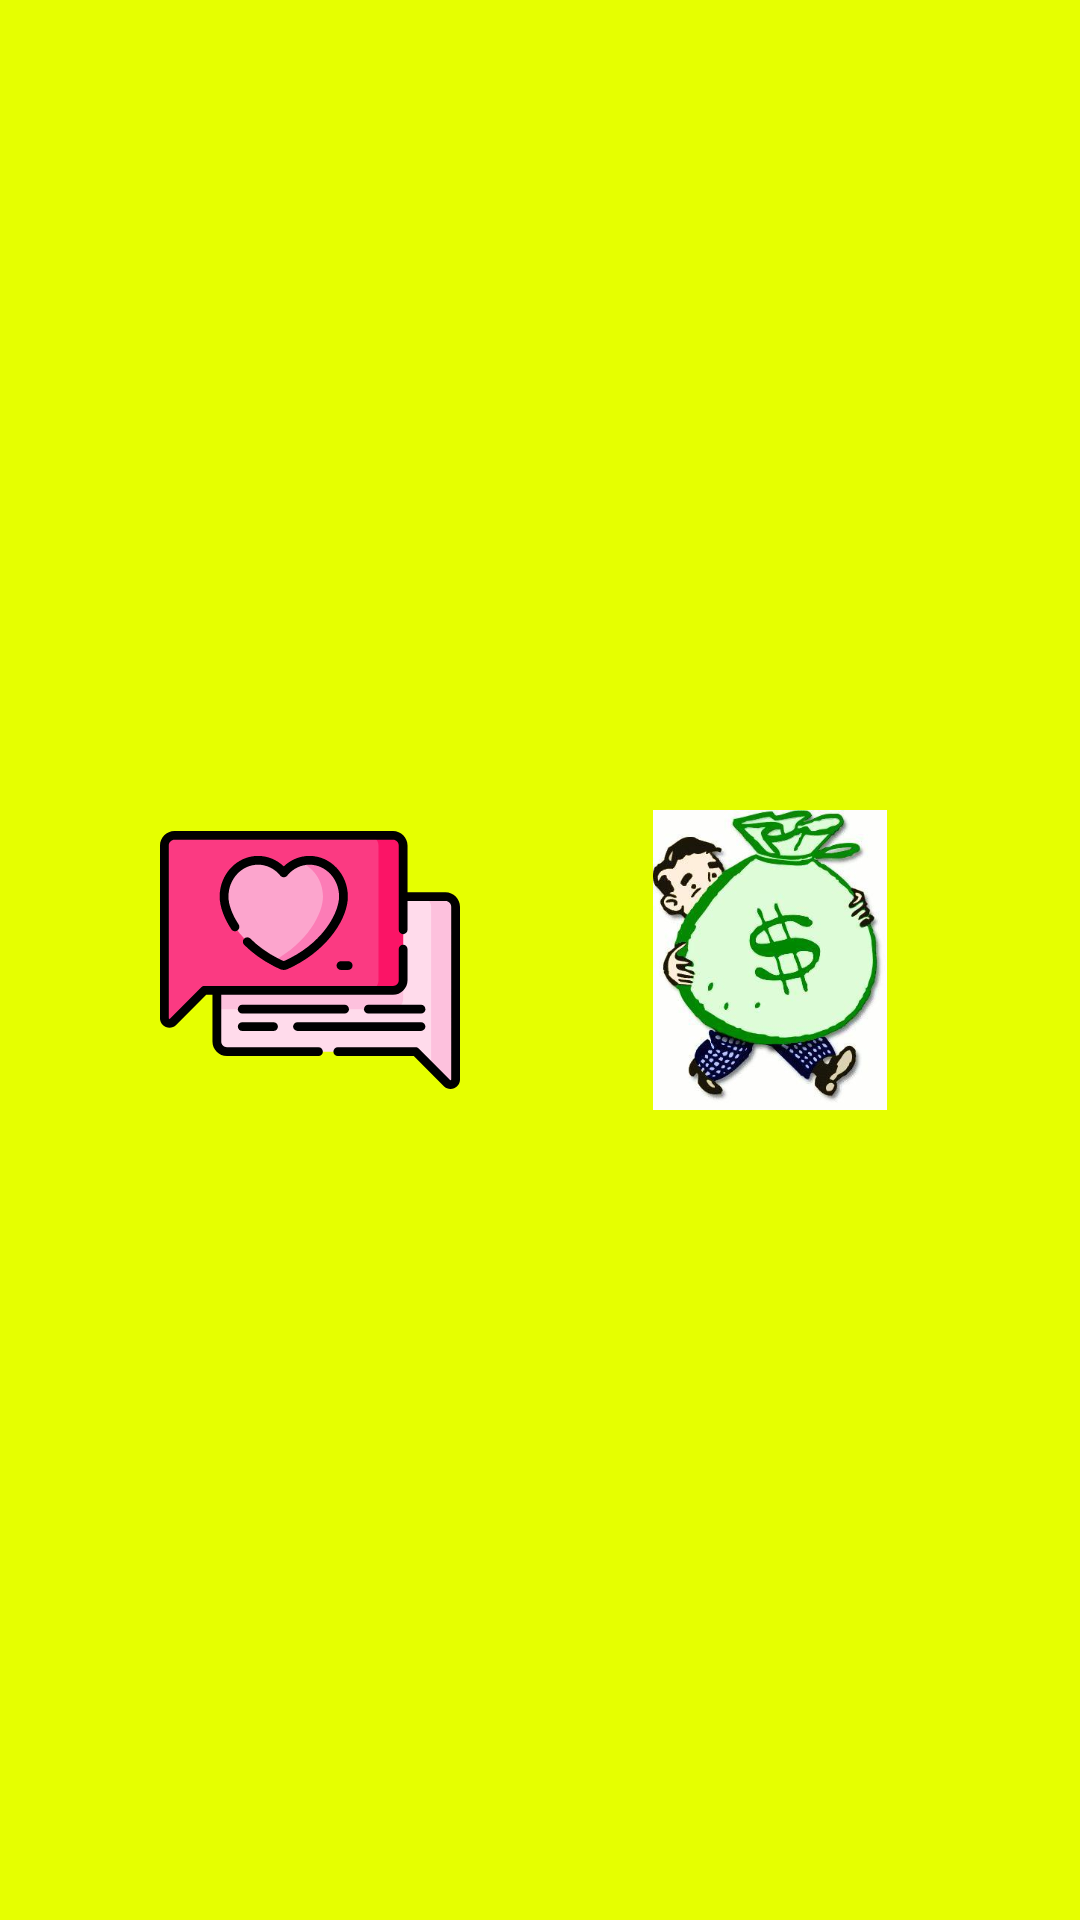

Icon bounding boxes for this 1080w x 1920h phone screenshot, format (x1, y1, x2, y2):
chat: (160, 831, 460, 1089)
finance: (653, 810, 887, 1110)
